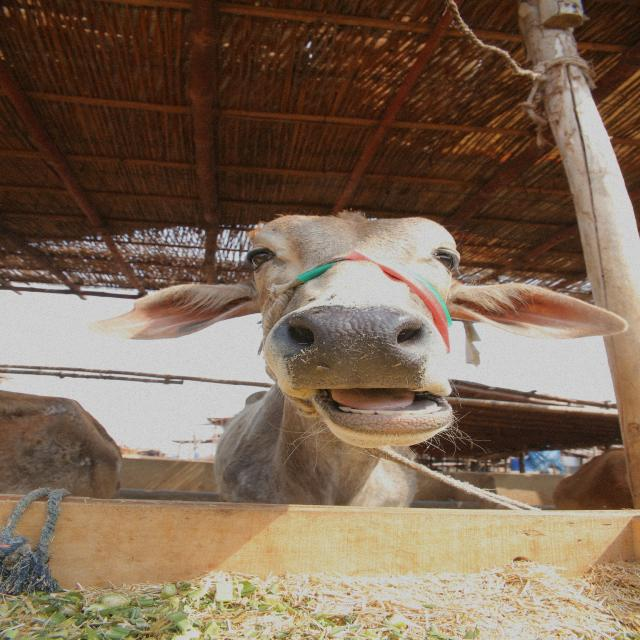muzzles: (276, 304, 440, 394)
